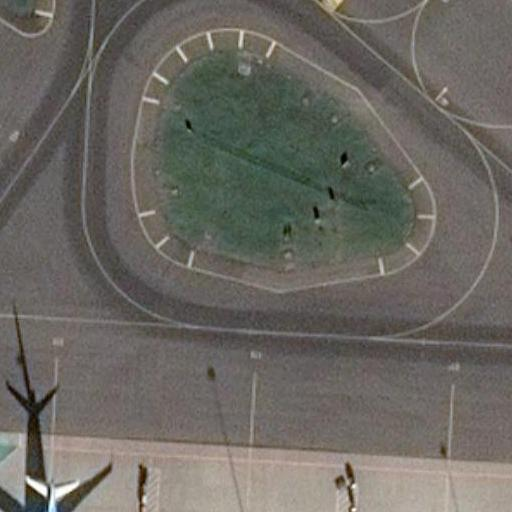Aircraft: (0, 468, 130, 512)
